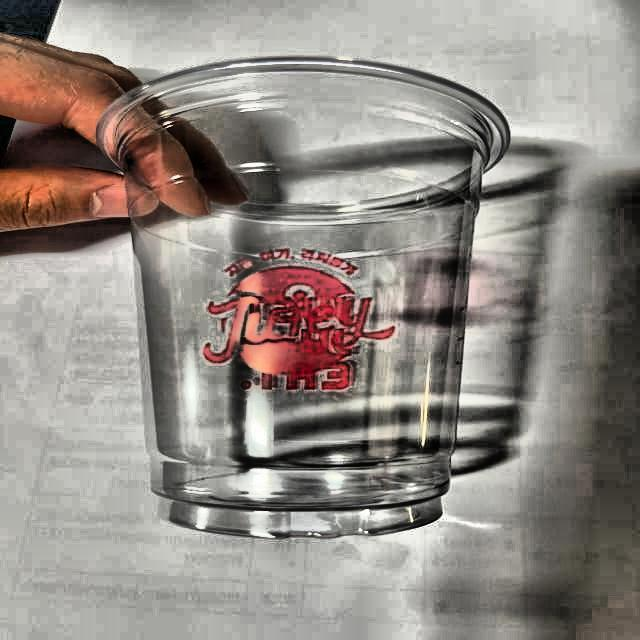plastic cup: (90, 51, 522, 543)
